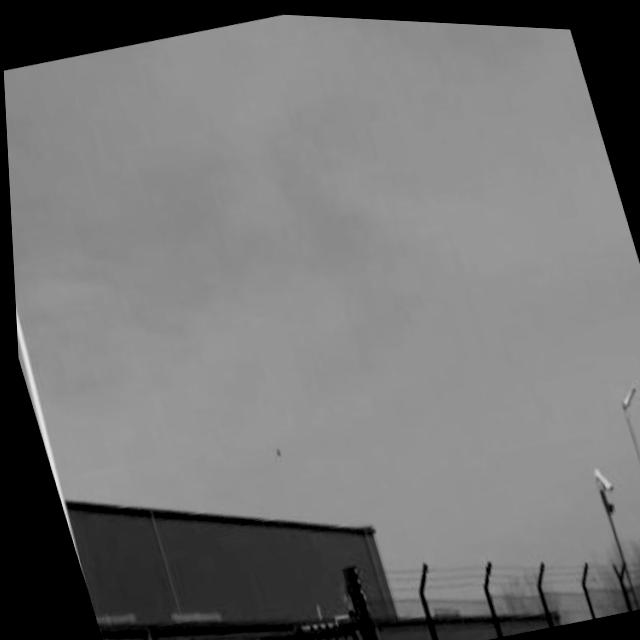helikopter: (262, 433, 285, 463)
